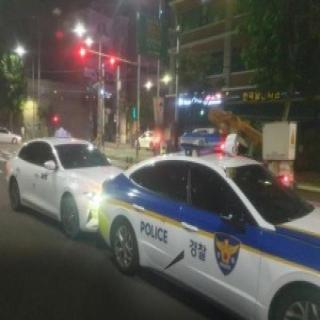Police_car: (97, 122, 320, 320)
